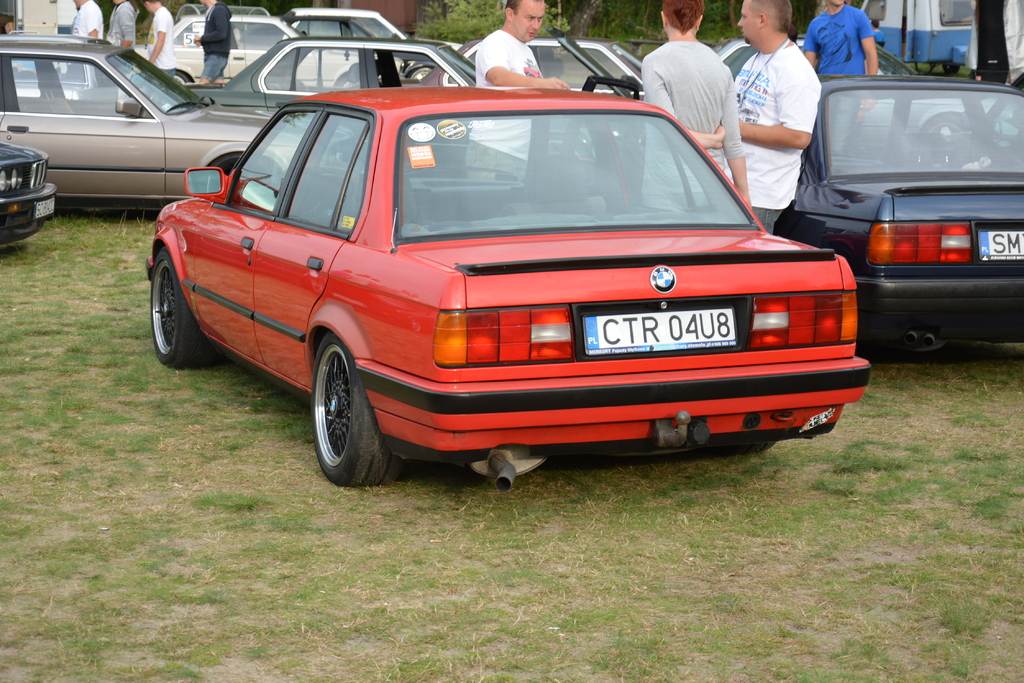Person: (62, 0, 886, 233)
